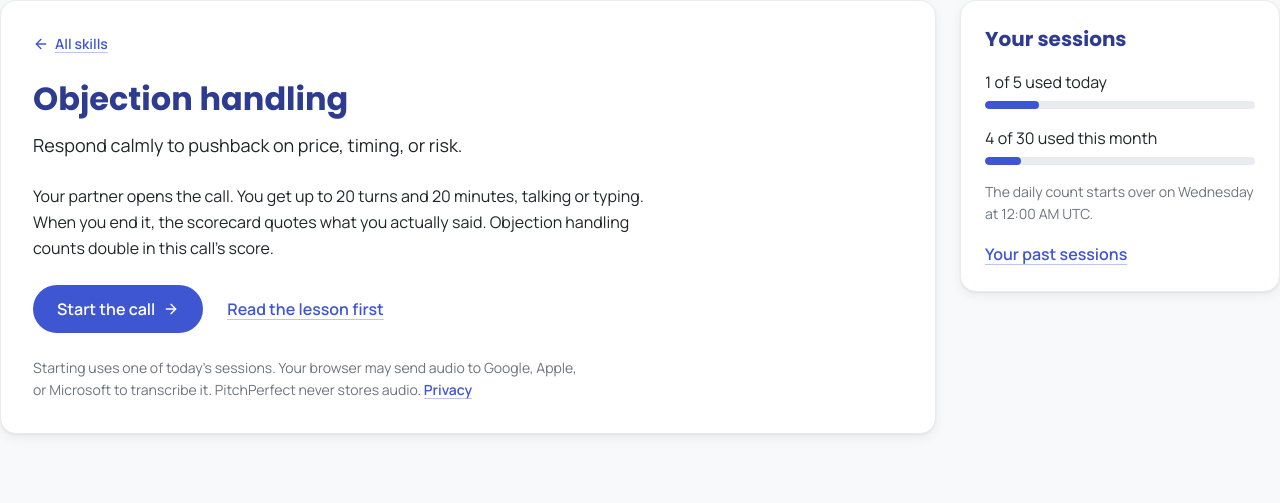
Test: PracticeRoom before the call › explains a pause when the day's practice budget is spent
The width and height of the screenshot is (1280, 503).
Click the button "Start the call". click: click(118, 309)
box: x1=33 y1=285 x2=203 y2=333
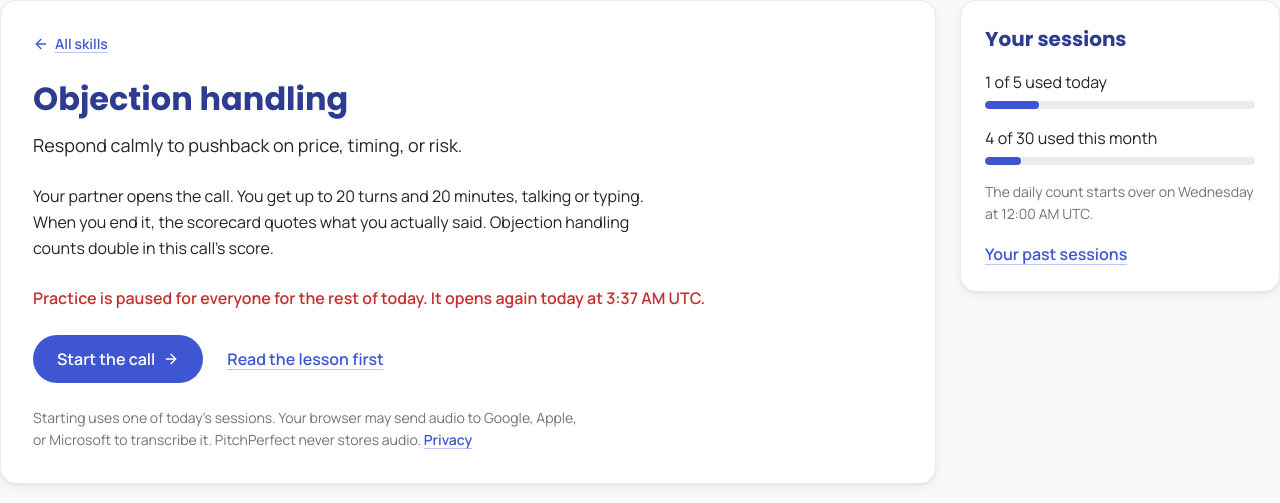
Check: the message shows "paused for everyone", box x1=33 y1=287 x2=705 y2=309
